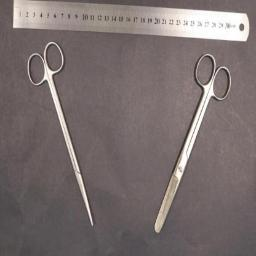Dressing Scissors: (154, 52, 232, 234)
